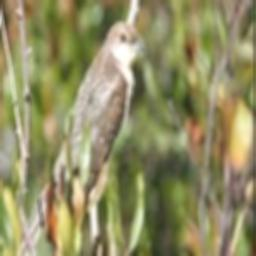Cuckoo: (12, 21, 146, 256)
